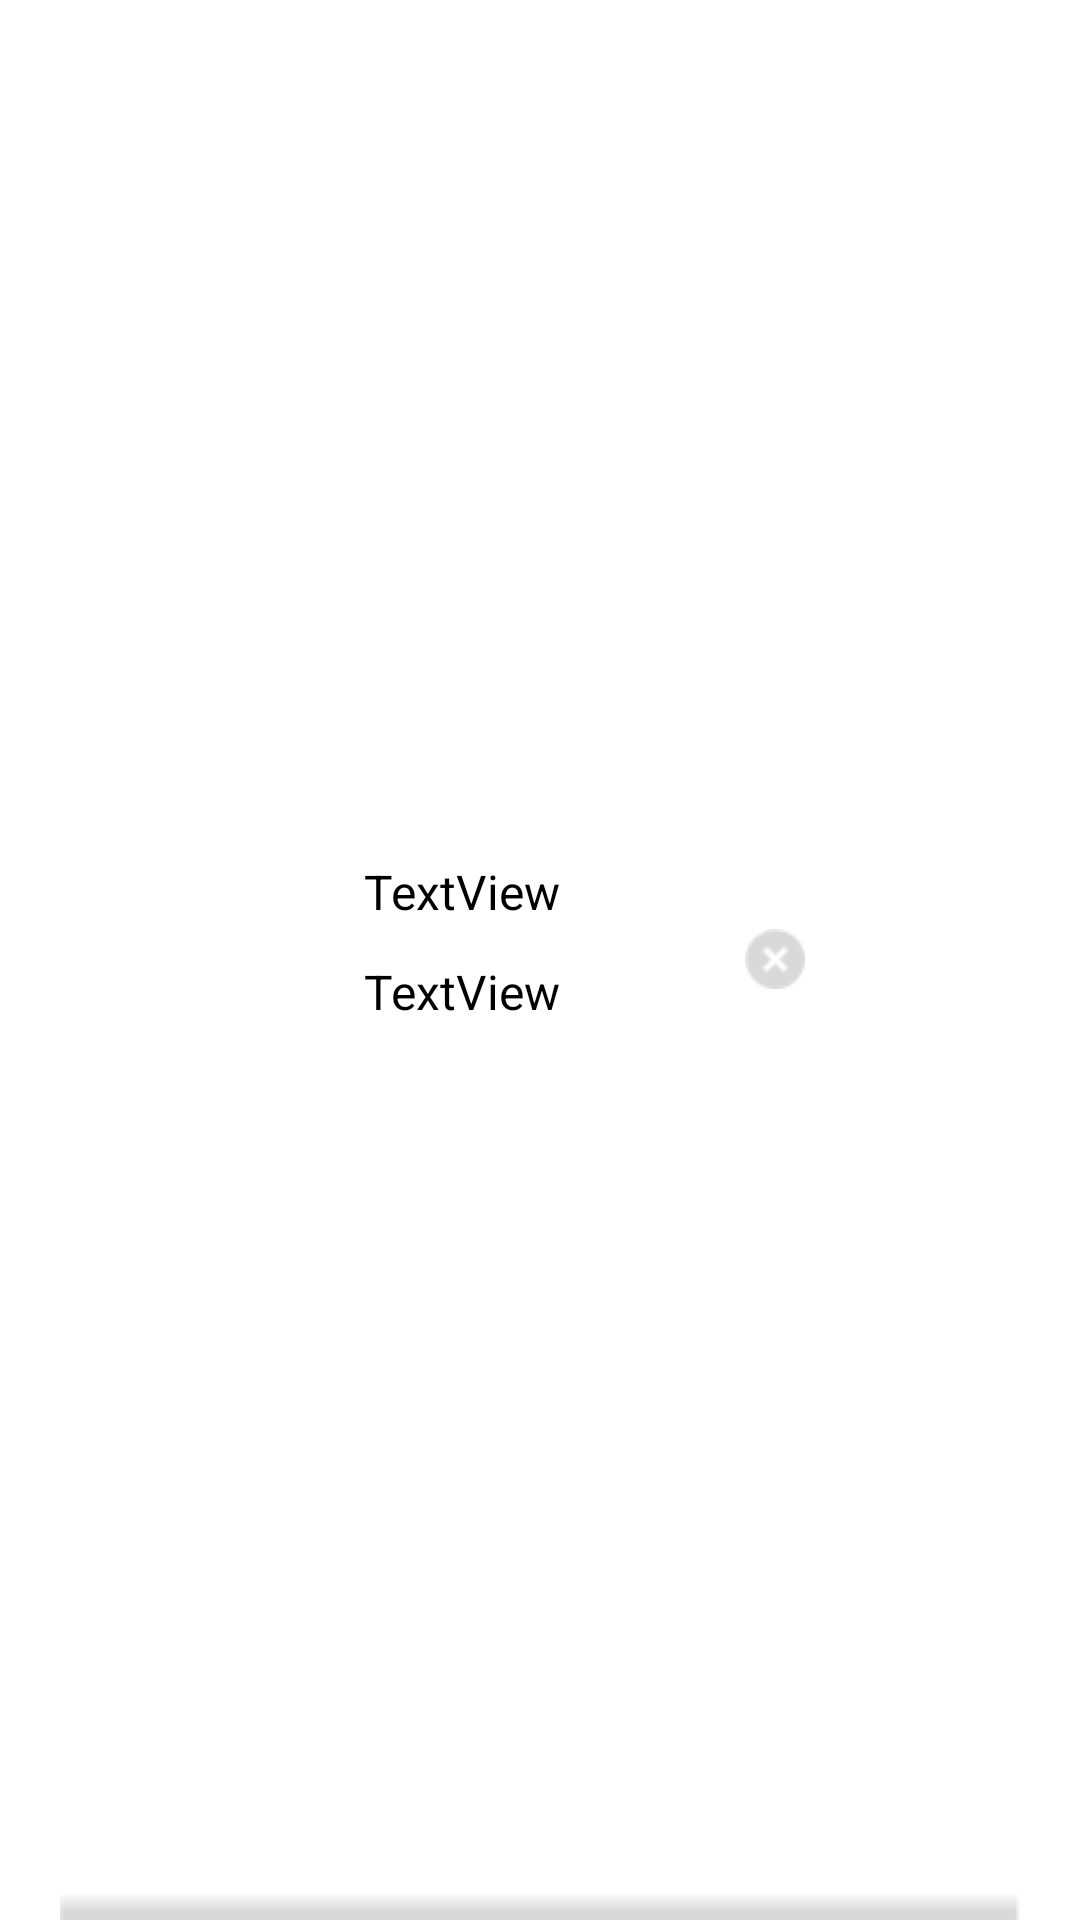

Where to tap for icons on this 1080*1920 app screen, as (x,y):
delete: (776,960)
